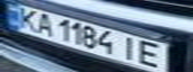1: (51, 17, 72, 43), (66, 20, 84, 46)
4: (97, 29, 118, 55)
8: (78, 24, 100, 49)
A: (30, 11, 57, 37)
E: (136, 38, 172, 70)
I: (115, 34, 145, 62)
K: (12, 7, 42, 30)
